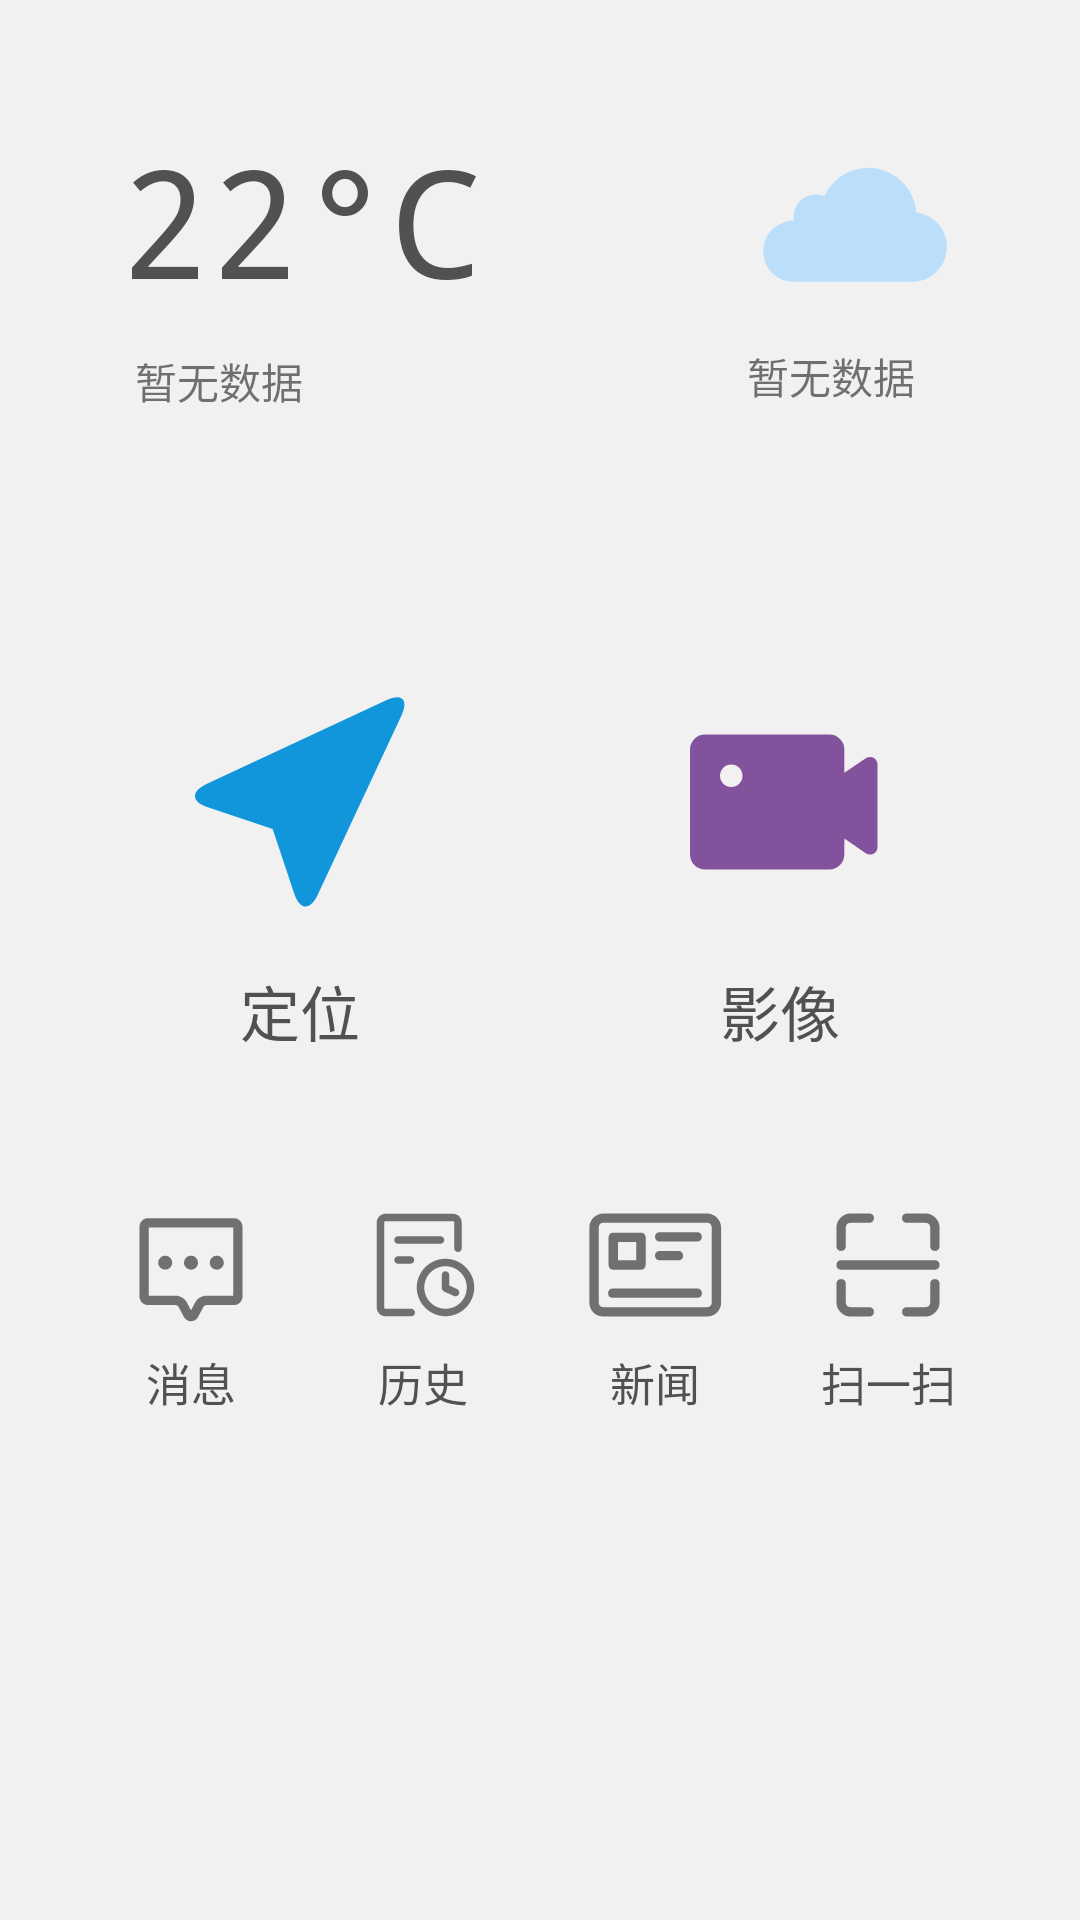

Icon bounding boxes for this 1080 x 1920 phone screenshot, format (x1, y1, x2, y2):
scan: (836, 1213, 940, 1317)
video: (690, 734, 878, 870)
